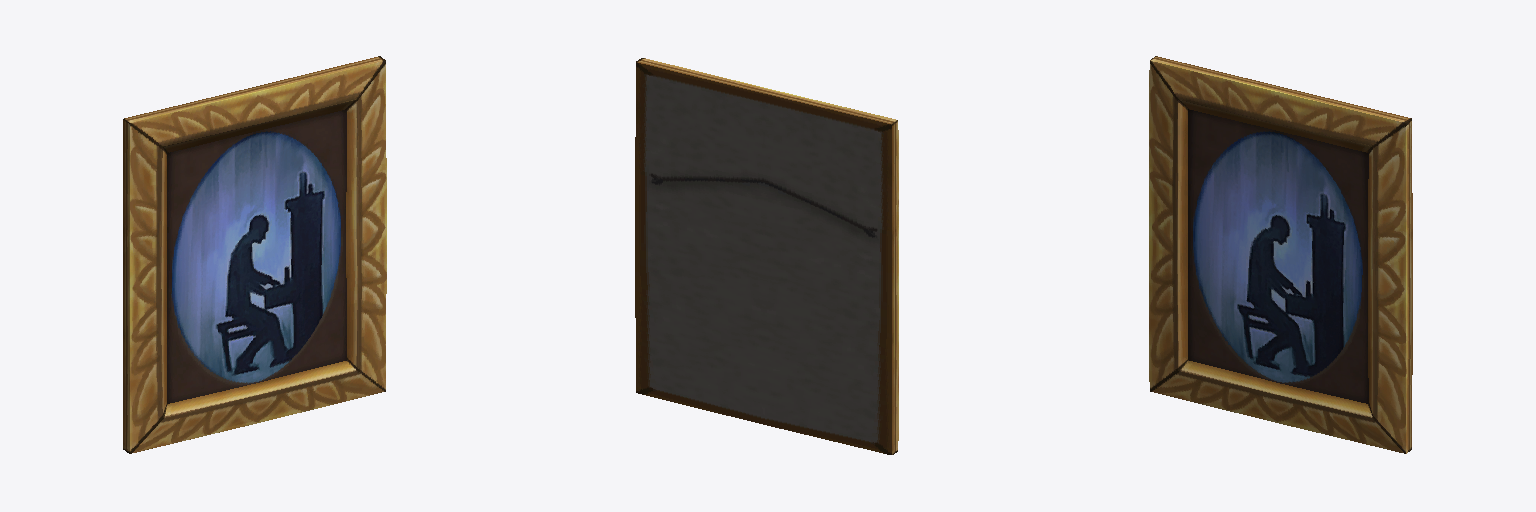
3 views of the same model, side by side, from view 1: azimuth 30°, elevation 25°; view 2: azimuth 150°, elevation 25°; view 3: azimuth 330°, elevation 25° (orthographic).
Visible parts, largest first — view 1: s4studio_mesh_1; view 2: s4studio_mesh_1; view 3: s4studio_mesh_1.
Boxes of the visible parts, <box> form: s4studio_mesh_1: <box>123,56,386,453</box>; s4studio_mesh_1: <box>635,58,898,454</box>; s4studio_mesh_1: <box>1149,56,1412,453</box>.
Bounding box in the file's own units: 1.25 × 1.54 × 0.07.
1 materials, 1 textured.